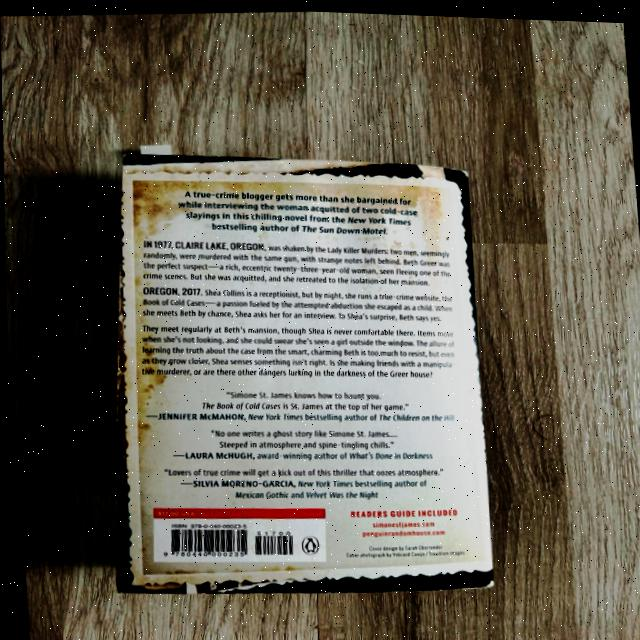Book: (114, 148, 490, 592)
